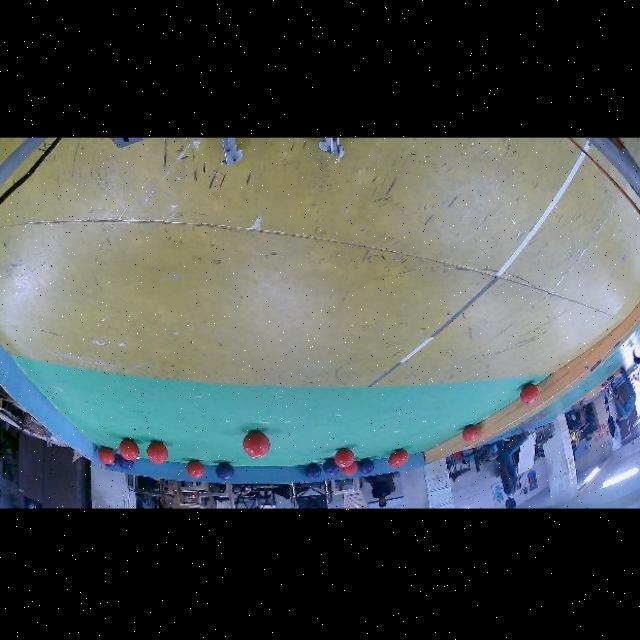P: (216, 462, 234, 480), (323, 459, 341, 475), (358, 458, 375, 474), (305, 463, 322, 479), (117, 454, 133, 470), (106, 460, 117, 467)
R: (243, 431, 270, 458), (146, 441, 168, 463), (119, 438, 140, 461), (521, 383, 539, 405), (335, 448, 354, 468), (186, 459, 204, 479), (99, 446, 115, 465), (462, 425, 478, 443), (391, 449, 408, 465), (341, 462, 358, 475), (389, 455, 401, 468)
